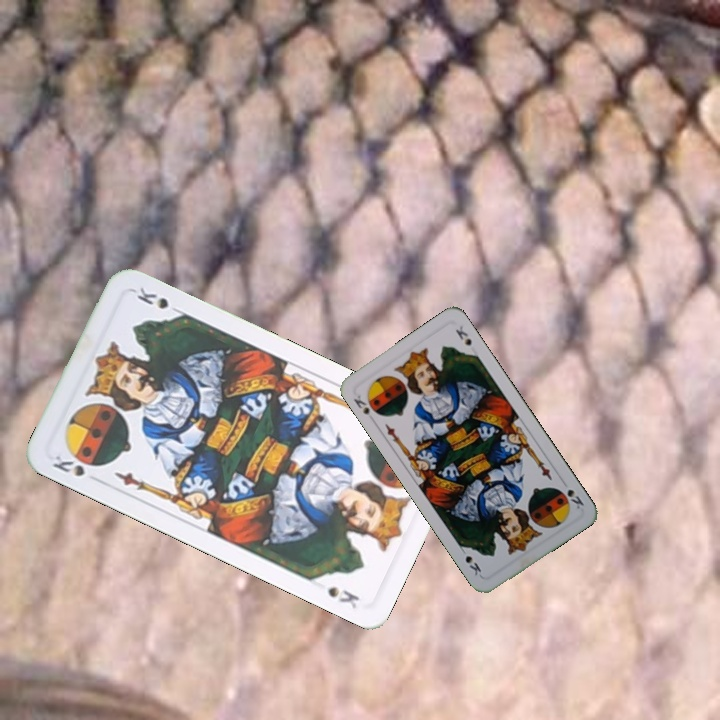SK: (48, 448, 87, 479), (563, 485, 587, 512), (349, 391, 372, 418)
